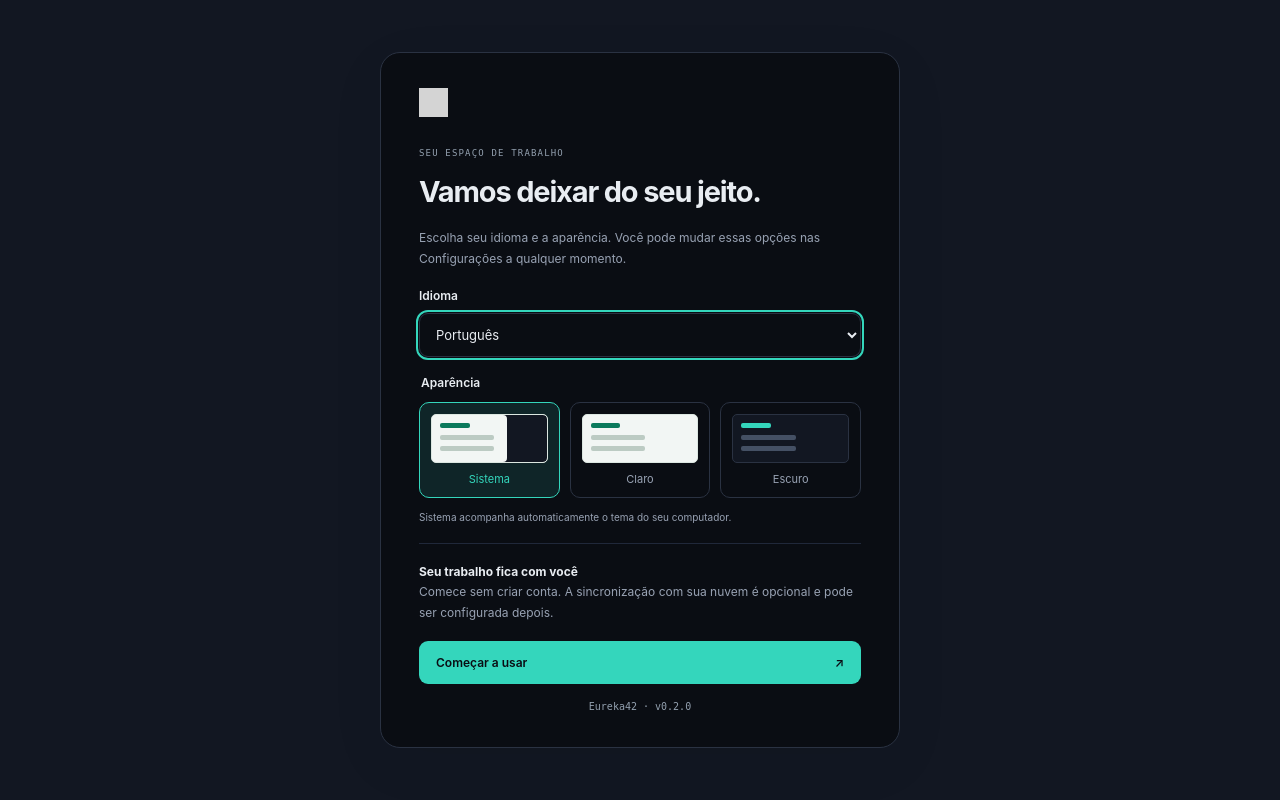
Test: first-run setup › previews another language, saves the selected dark theme and persists the language
Later steps or results of the test are not shown.
Select "English" in the dropdown at (640, 335), box [419,313,861,357]
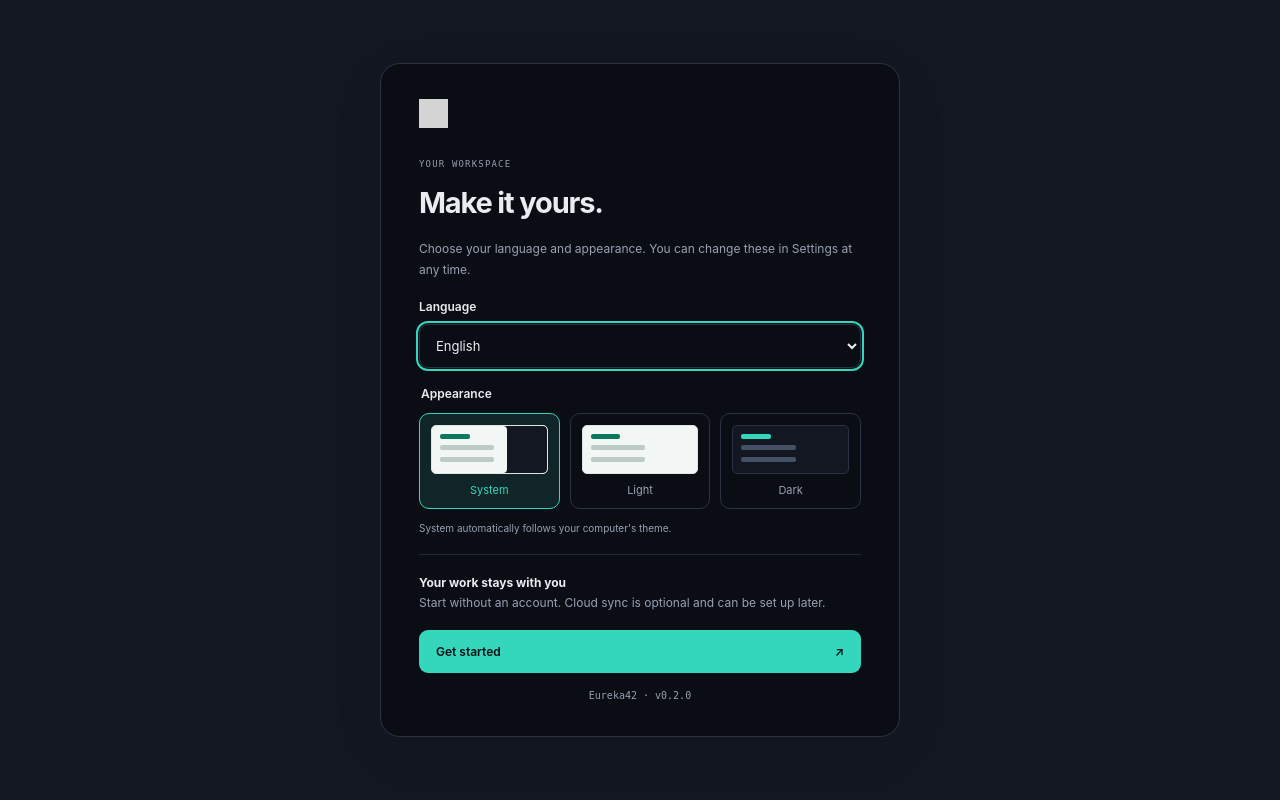
Check: the heading "Make it yours." is shown, box [419,185,603,220]
